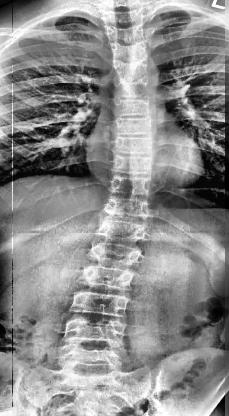Vertebrae: (59, 344, 129, 369), (70, 289, 132, 317), (77, 265, 138, 292), (63, 316, 129, 340), (90, 243, 144, 265), (99, 37, 155, 57), (94, 219, 144, 241), (111, 152, 157, 174), (112, 134, 158, 156), (103, 196, 153, 216), (108, 175, 156, 195), (112, 97, 156, 117), (110, 116, 158, 134), (108, 76, 154, 94), (108, 57, 152, 72)
